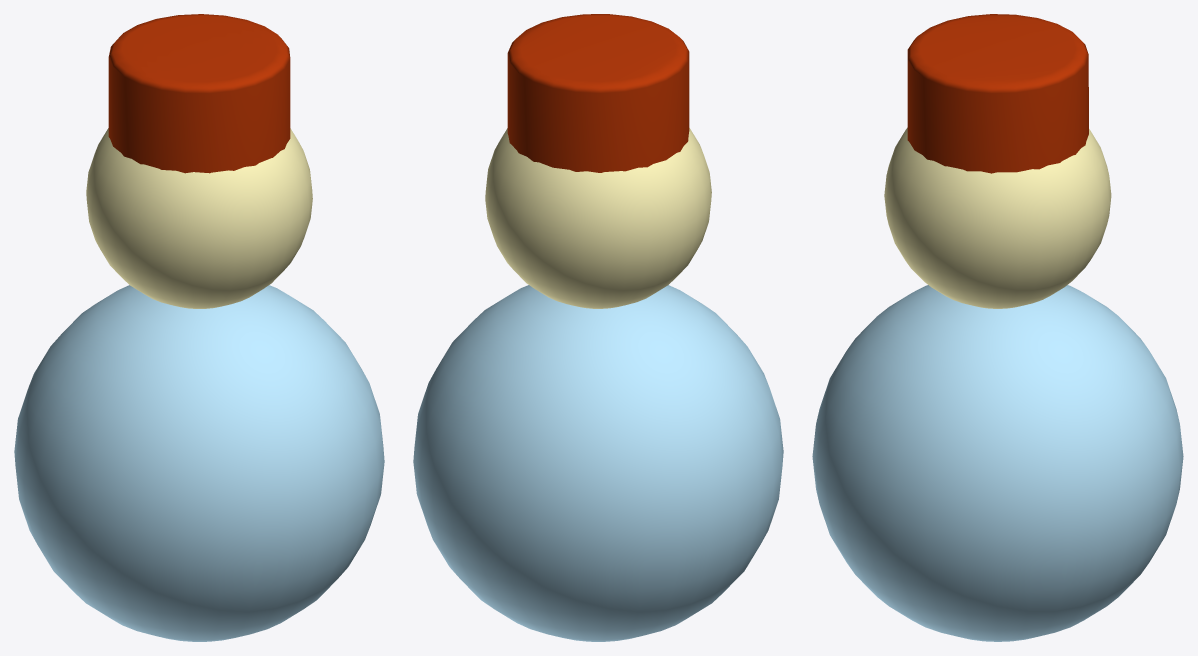
File: Gosn11.fbx
3 views of the same model, side by side, from view 1: azimuth 30°, elevation 25°; view 2: azimuth 150°, elevation 25°; view 3: azimuth 270°, elevation 25° (orthographic).
Parts seen in each view (by area): view 1: cika_5, cika_5.001, cika_5.002; view 2: cika_5, cika_5.001, cika_5.002; view 3: cika_5, cika_5.001, cika_5.002.
Boxes of the visible parts, left/top/right/bottom form: cika_5: left=14, top=285, right=384, bottom=641; cika_5.001: left=86, top=128, right=312, bottom=308; cika_5.002: left=108, top=14, right=290, bottom=173; cika_5: left=413, top=285, right=783, bottom=641; cika_5.001: left=485, top=128, right=711, bottom=308; cika_5.002: left=507, top=14, right=689, bottom=172; cika_5: left=812, top=285, right=1183, bottom=641; cika_5.001: left=884, top=127, right=1111, bottom=308; cika_5.002: left=907, top=14, right=1088, bottom=173.
Bounding box in the file's own units: 5301 × 9078 × 5301.
